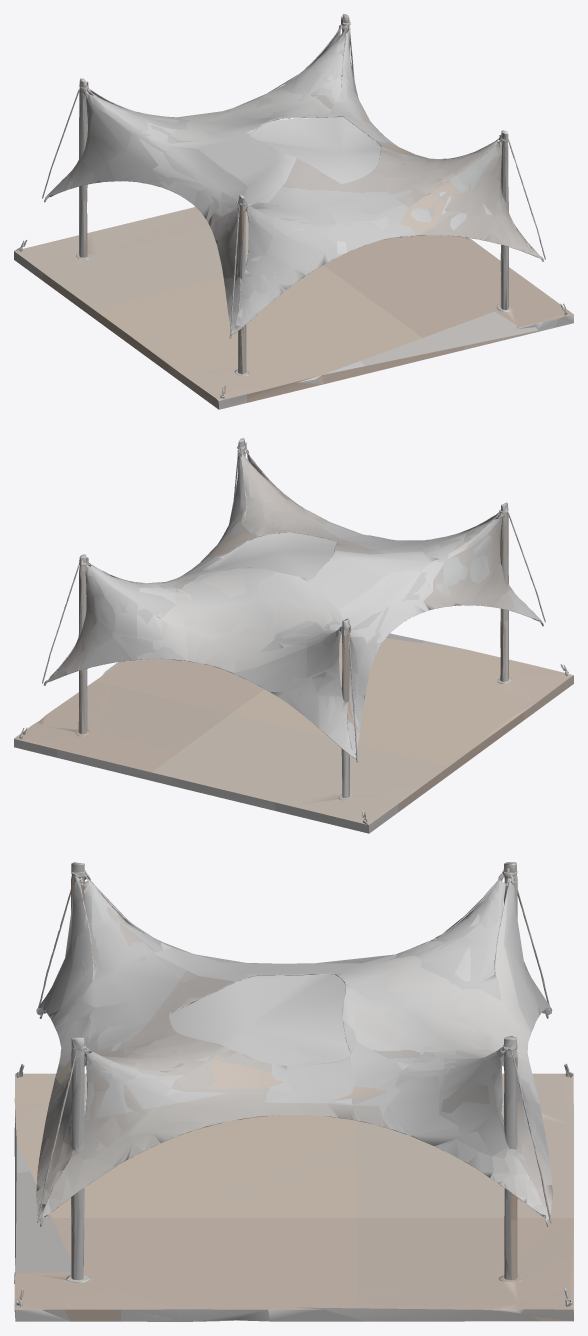
File: pavilion.glb
The picture shows the model from 3 angles, top to bottom: view 1: azimuth 30°, elevation 25°; view 2: azimuth 150°, elevation 25°; view 3: azimuth 270°, elevation 25°; orthographic projection. The views are drawn at different scales.
Parts seen in each view (by area): view 1: LO; view 2: LO; view 3: LO.
Boxes of the visible parts, x1=… form: LO: x1=14, y1=14, x2=573, y2=409; LO: x1=14, y1=438, x2=573, y2=833; LO: x1=14, y1=862, x2=573, y2=1321.
Size of the model in its own units: 17.8 by 8.9 by 17.82.
1 material, 1 textured.
